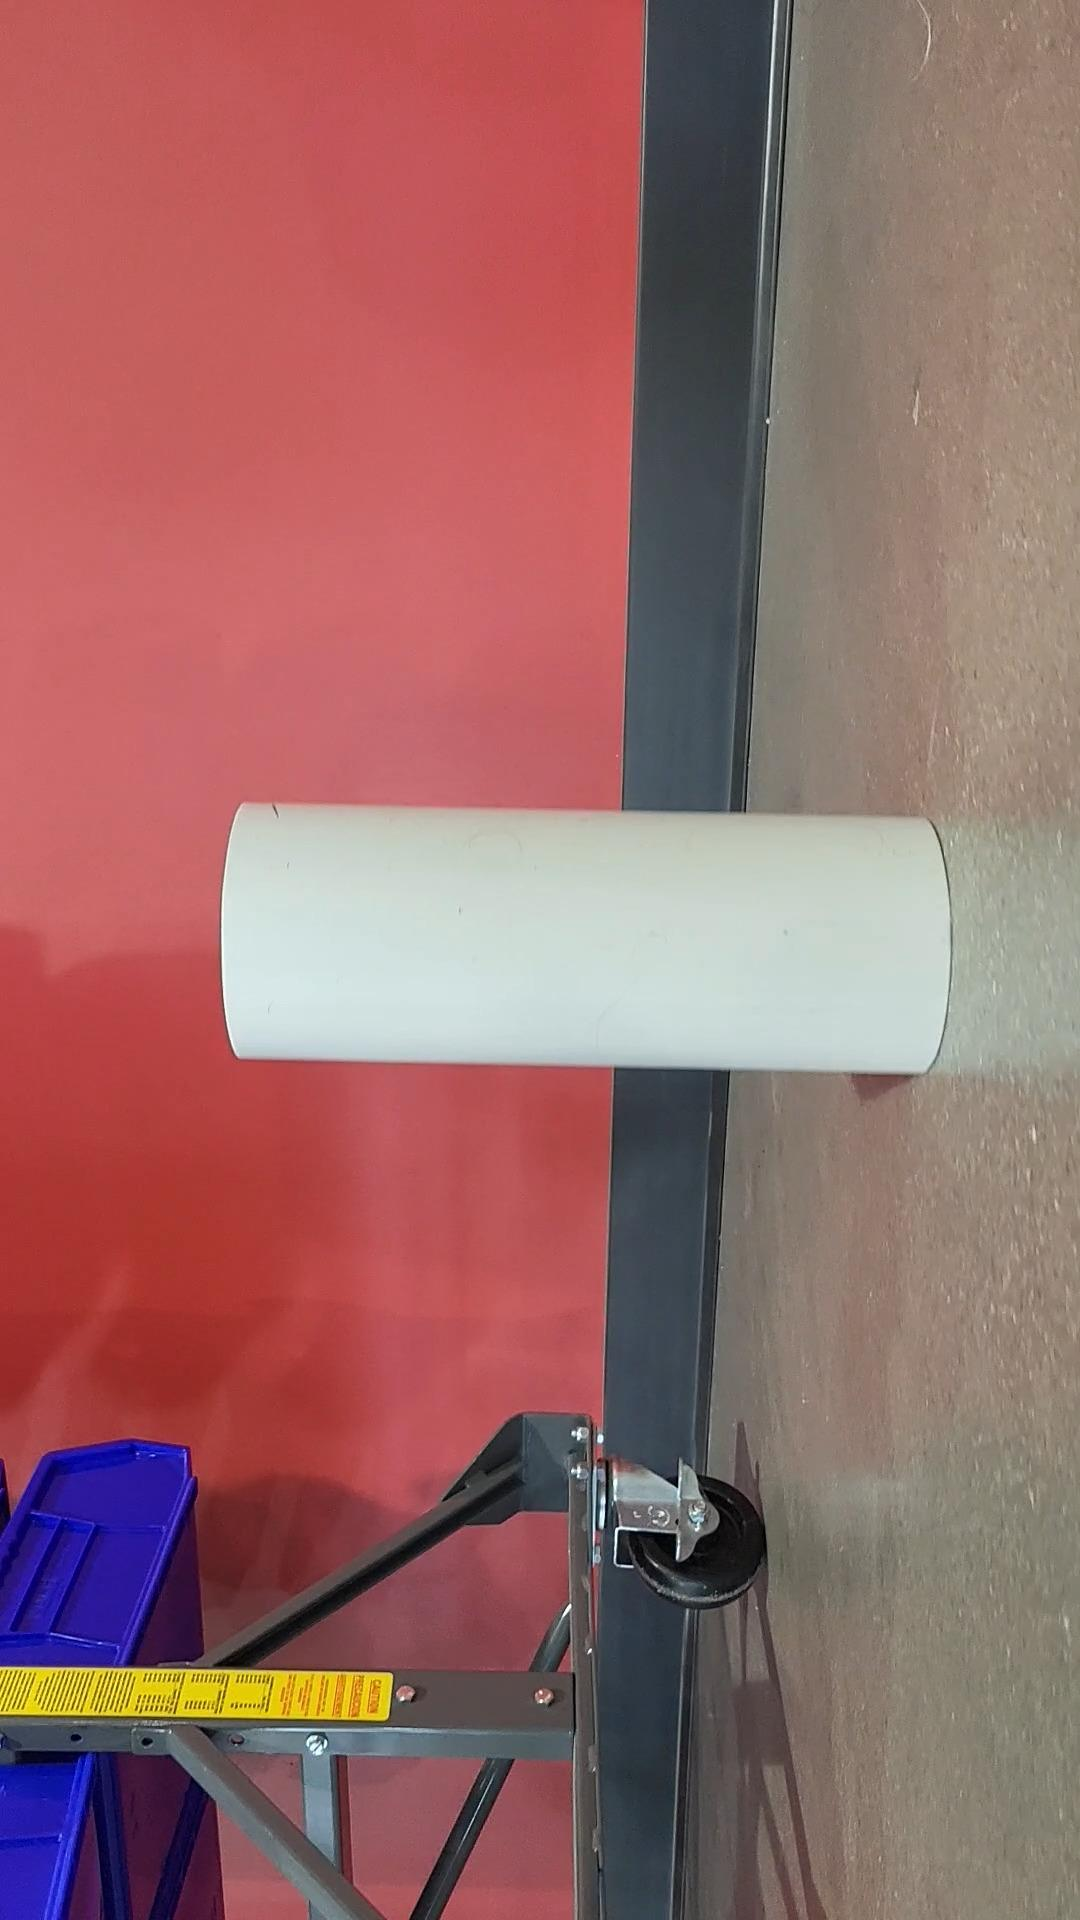coral: (218, 798, 963, 1080)
